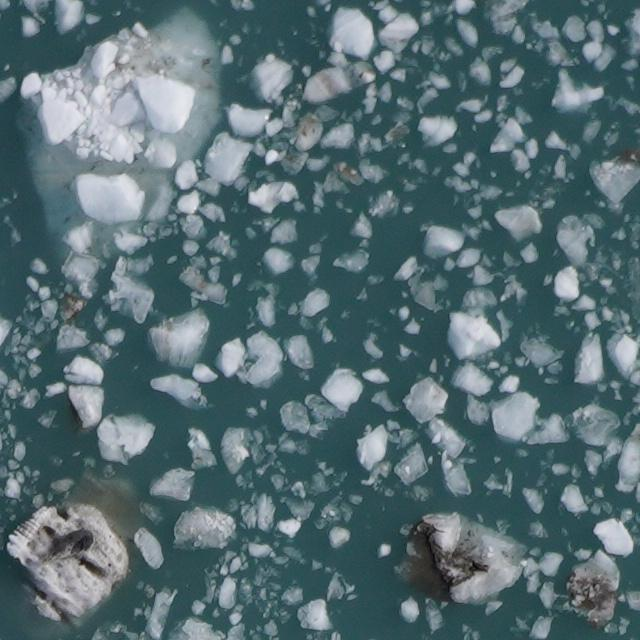seal: (35, 523, 94, 568)
